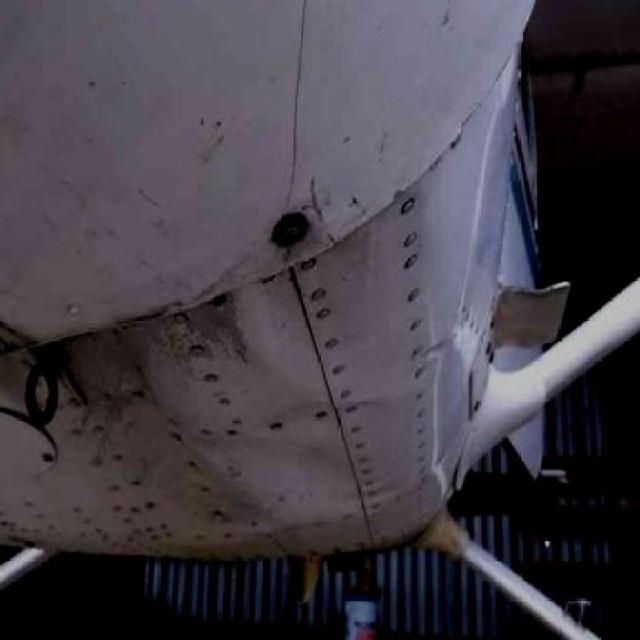dent: (238, 232, 389, 395)
